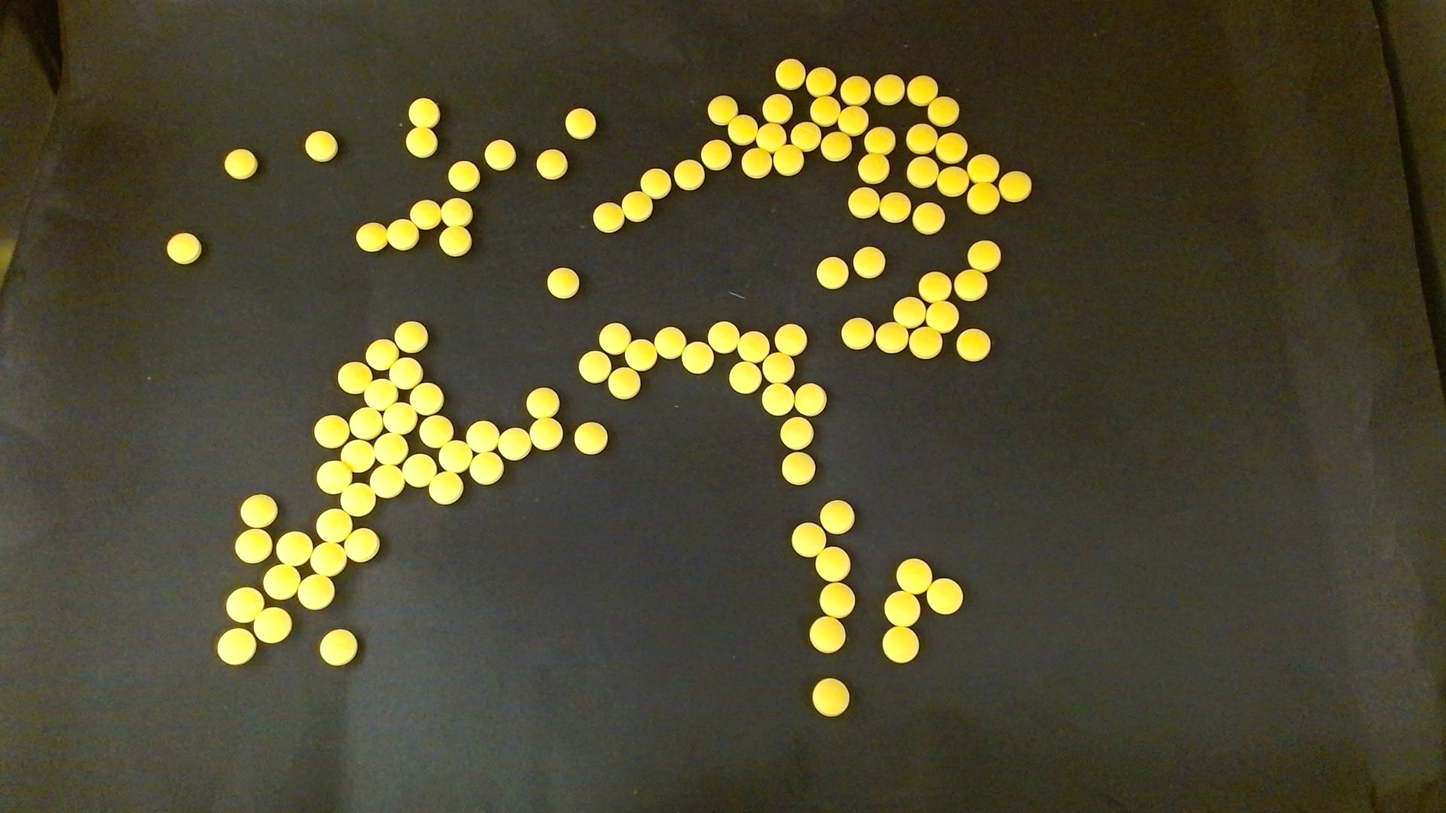Circle: (319, 629, 358, 667), (812, 678, 850, 717), (217, 628, 256, 665), (234, 528, 273, 564), (297, 574, 334, 611), (227, 586, 265, 622), (254, 607, 292, 643), (882, 627, 919, 663), (239, 493, 277, 528), (810, 617, 846, 653), (316, 459, 352, 494), (819, 582, 855, 617), (313, 414, 349, 449), (310, 541, 346, 576), (884, 591, 920, 626), (896, 558, 932, 593), (264, 563, 299, 598), (819, 499, 854, 534), (276, 531, 312, 565), (928, 578, 962, 614), (343, 528, 378, 562), (529, 416, 563, 451), (573, 421, 608, 455), (402, 453, 436, 487), (469, 451, 503, 485), (782, 452, 816, 486), (429, 470, 462, 505), (926, 300, 959, 335), (340, 483, 375, 516), (317, 508, 352, 541), (419, 415, 453, 448), (340, 439, 374, 472), (816, 547, 850, 580), (792, 522, 825, 556), (956, 328, 990, 361), (386, 219, 421, 251), (393, 320, 428, 352), (166, 232, 201, 264), (383, 401, 416, 434), (374, 432, 407, 465), (729, 361, 762, 394), (780, 416, 813, 449), (498, 428, 531, 461), (349, 406, 383, 438), (409, 382, 443, 414), (337, 361, 371, 393), (370, 464, 404, 496), (438, 440, 471, 472), (761, 382, 794, 414), (793, 382, 825, 415), (774, 323, 807, 355), (908, 326, 941, 358), (999, 170, 1032, 202), (853, 245, 885, 278), (224, 148, 258, 179), (465, 420, 497, 452), (773, 143, 805, 175), (578, 351, 610, 383), (526, 386, 558, 418), (816, 257, 848, 289), (389, 357, 422, 388), (741, 147, 772, 180), (608, 367, 639, 400), (954, 269, 987, 300), (967, 181, 998, 214), (875, 321, 908, 352), (438, 225, 471, 256), (840, 318, 873, 349), (304, 130, 337, 161), (365, 379, 397, 410), (762, 352, 794, 383), (894, 296, 926, 327), (365, 339, 397, 370), (913, 201, 944, 233), (707, 321, 738, 353), (654, 326, 685, 358), (599, 322, 630, 354), (774, 58, 805, 90), (968, 239, 1000, 270), (410, 199, 441, 230), (874, 74, 905, 105), (848, 187, 879, 218), (405, 126, 436, 157), (536, 148, 567, 179), (547, 267, 578, 298), (919, 271, 951, 301), (737, 330, 767, 362), (936, 132, 966, 163), (907, 156, 937, 187), (859, 152, 889, 183), (625, 339, 656, 369), (879, 192, 910, 222), (790, 120, 820, 151), (937, 165, 968, 195), (682, 341, 712, 372), (441, 196, 472, 226), (840, 75, 871, 105), (621, 190, 651, 221), (640, 168, 671, 198), (674, 159, 704, 190), (447, 160, 478, 190), (355, 222, 386, 252), (593, 202, 623, 233), (484, 139, 515, 169), (565, 108, 596, 138), (407, 97, 439, 126), (906, 123, 936, 153), (762, 93, 792, 123), (928, 96, 958, 126), (701, 139, 731, 169), (907, 75, 937, 105), (821, 131, 852, 160), (755, 122, 786, 151), (810, 95, 840, 124), (838, 105, 868, 134), (968, 153, 997, 182), (864, 126, 893, 155), (708, 95, 737, 124), (728, 114, 756, 144), (806, 67, 834, 96)
